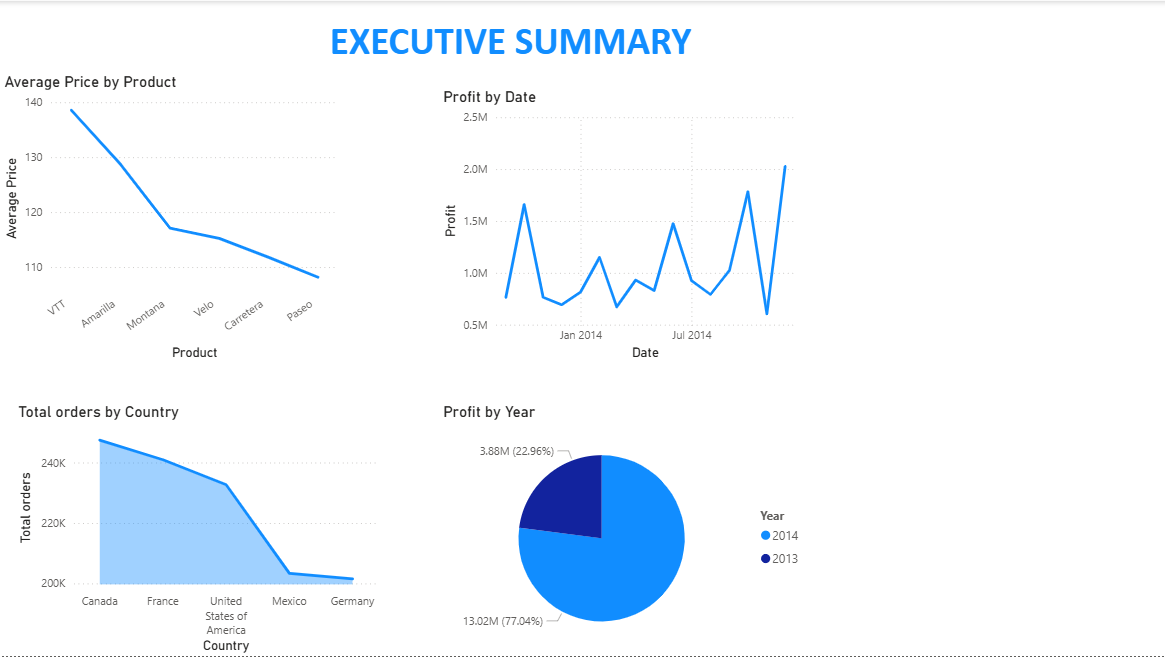

What the dashboard file says about the page in this screenshot:
{"tool":"powerbi","page":{"name":"Page 1","canvas":[1280,720],"ordinal":0},"visuals":[{"type":"lineChart","fields":{"Category":["financials.Date"],"Y":["Sum(financials.Profit)"]},"box":[481.6,94.7,407.5,304.6],"z":1},{"type":"textbox","box":[80,399,280,280],"z":3},{"type":"lineChart","fields":{"Category":["financials.Product"],"Y":["Key Measures.Average Price"]},"box":[0,78.2,376,321.1],"z":4},{"type":"areaChart","fields":{"Y":["Key Measures.Total orders"],"Category":["financials.Country"]},"box":[15.1,440.5,408.9,279.9],"z":5},{"type":"pieChart","fields":{"Category":["financials.Year"],"Y":["Sum(financials.Profit)"]},"box":[481.6,440.5,408.9,279.9],"z":6},{"type":"textbox","box":[15.1,12.3,1090.9,65.9],"z":7}]}

Visuals, with their boxes in screenshot pixels (x1, y1, x2, y2), scaled from the page's 1280x720 canvas onto the 1165x657 screenshot:
lineChart - financials.Date x Sum(financials.Profit): l=438, t=86, r=809, b=364
textbox: l=73, t=364, r=328, b=620
lineChart - financials.Product x Key Measures.Average Price: l=0, t=71, r=342, b=364
areaChart - Key Measures.Total orders x financials.Country: l=14, t=402, r=386, b=656
pieChart - financials.Year x Sum(financials.Profit): l=438, t=402, r=810, b=656
textbox: l=14, t=11, r=1007, b=71
